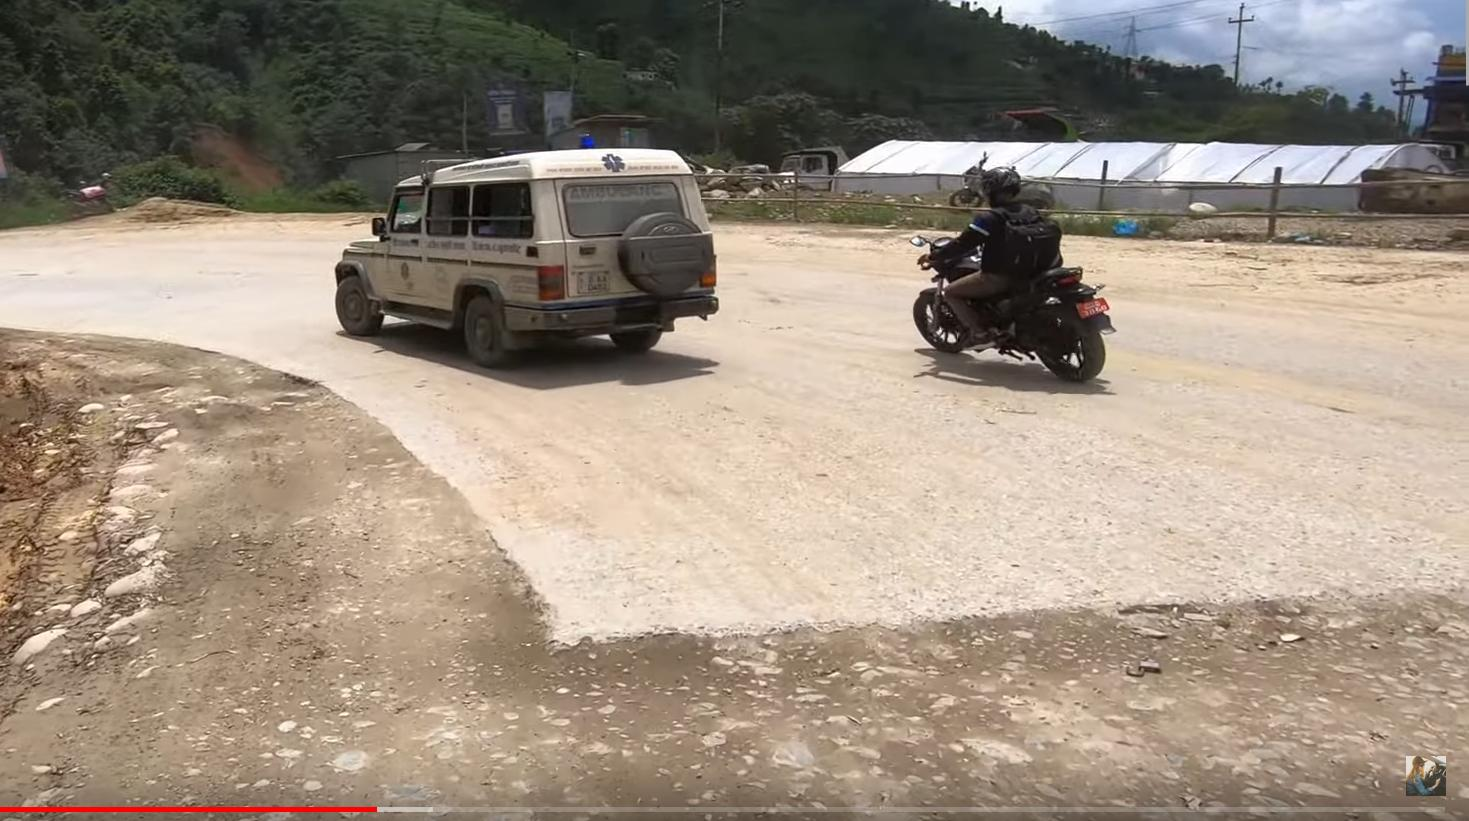ambulance: (321, 127, 732, 376)
bike: (890, 224, 1120, 396)
